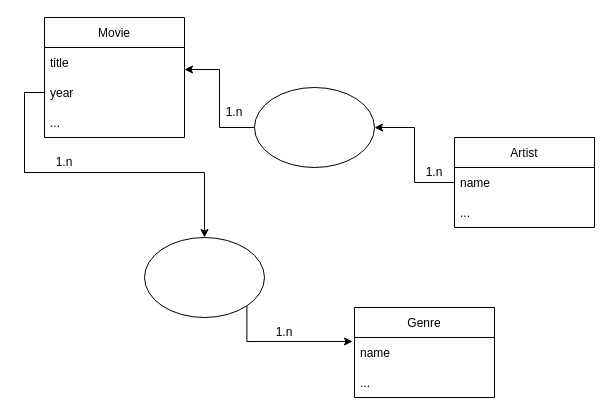
This 612x415 diagram has some shape labels left out. Here are the shapes that lost their labels. From the top down, the centre of each, then its label:
(314,127): appears on
(204,277): belongs to
